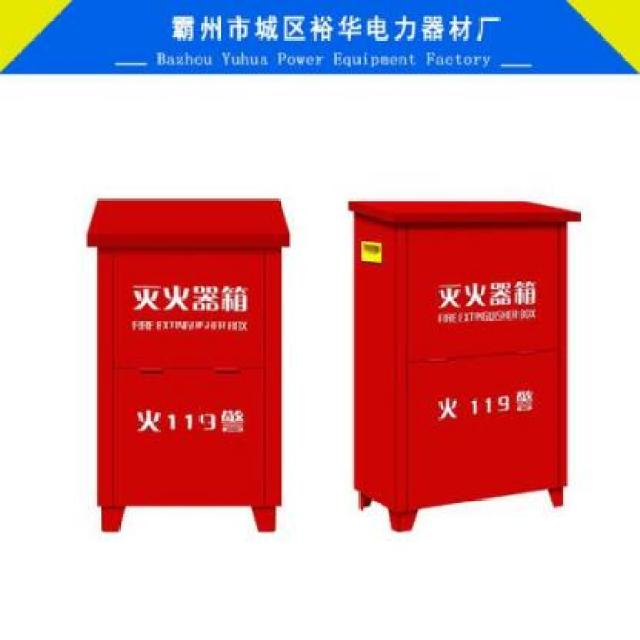firehydrant: (342, 191, 588, 538), (80, 191, 295, 544)
